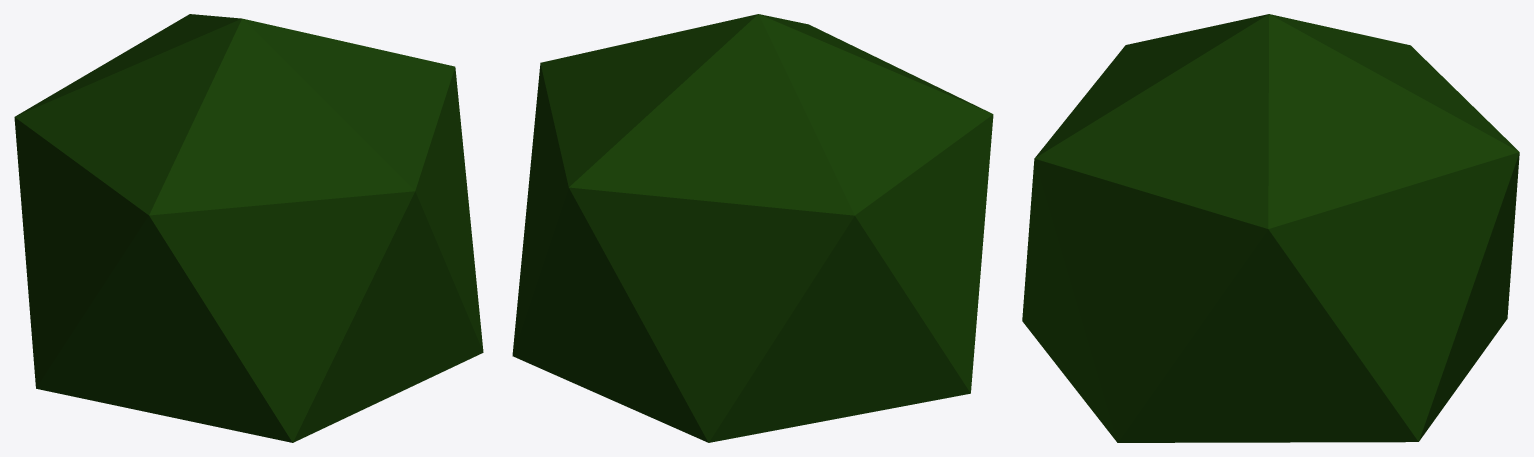
Rendered from Thicket of weeds.obj.
3 renders of one model, left to right at view 1: azimuth 30°, elevation 25°; view 2: azimuth 150°, elevation 25°; view 3: azimuth 270°, elevation 25°, orthographic. The views are drawn at different scales.
Parts seen in each view (by area): view 1: 棱角球; view 2: 棱角球; view 3: 棱角球.
Boxes of the visible parts, left/top/right/bottom form: 棱角球: left=14, top=14, right=483, bottom=442; 棱角球: left=512, top=14, right=993, bottom=442; 棱角球: left=1022, top=14, right=1519, bottom=442.
Bounding box in the file's own units: 1.82 × 1.41 × 1.77.
